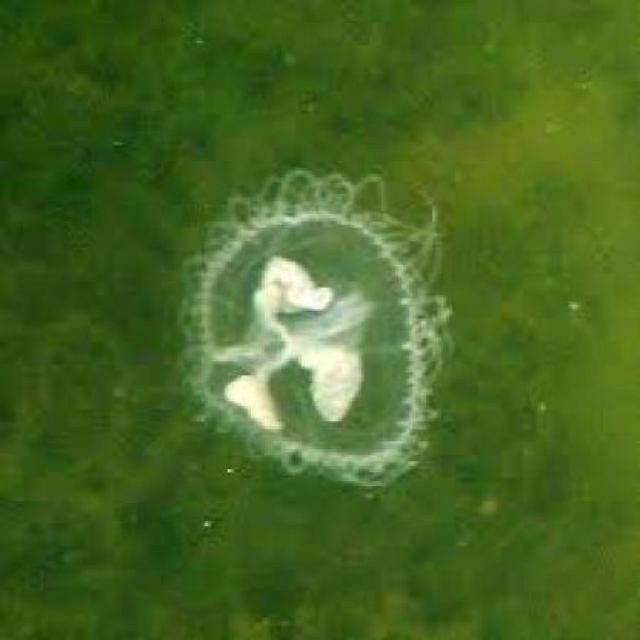Jellyfish: (170, 162, 464, 504)
